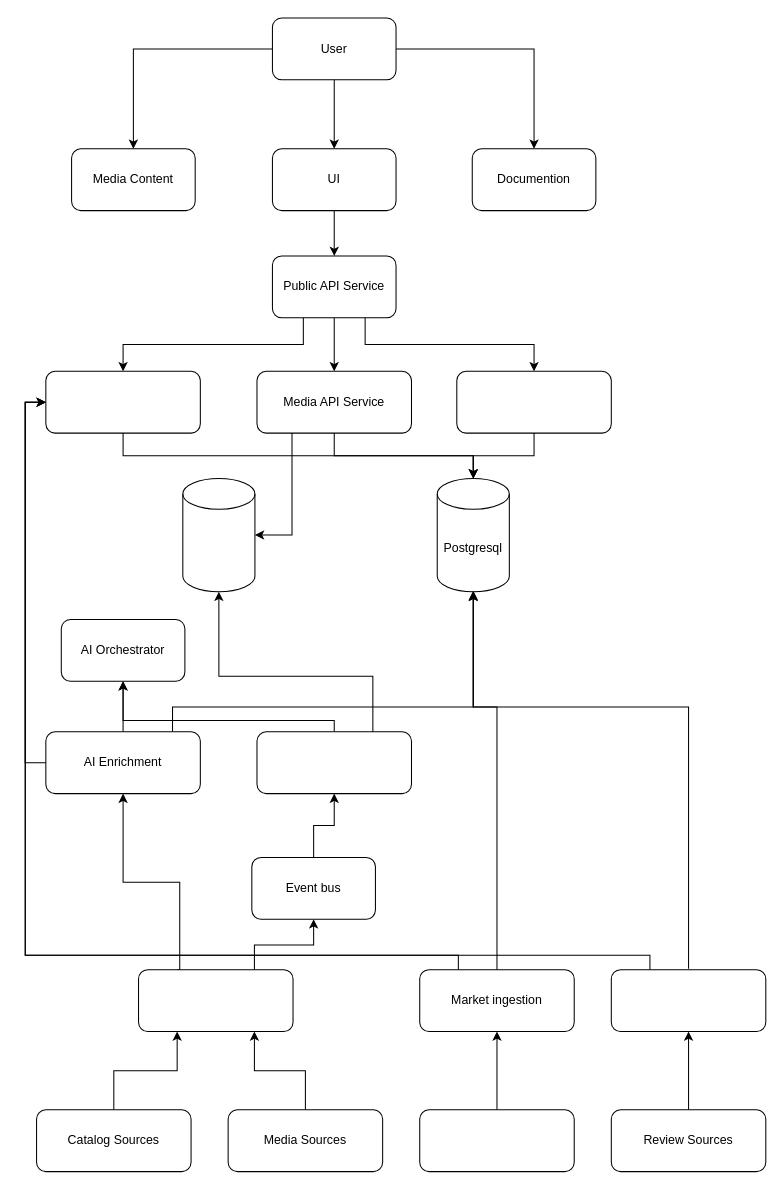
The diagram is 784 pixels wide and 1190 high, and some of its shapes have lost their labels. Here are the shapes that lost their labels. From the top down, the box of each, then its label:
(45, 370, 200, 433): Catalog API Service
(456, 370, 611, 433): Market API Service
(182, 477, 255, 592): S3
(256, 731, 411, 794): Media processing
(138, 969, 293, 1032): Catalog ingestion
(610, 969, 766, 1032): Review ingestion
(419, 1109, 574, 1172): Market prices Sources
